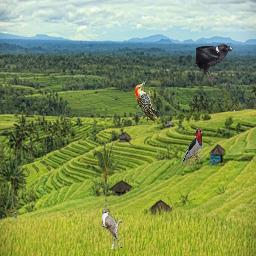Crow: (196, 44, 233, 84)
Cuckoo: (102, 209, 122, 249)
Woodpecker: (135, 81, 159, 121), (181, 126, 203, 166)
